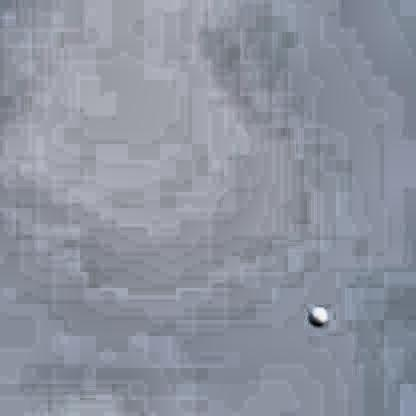golfball: (302, 304, 326, 326)
